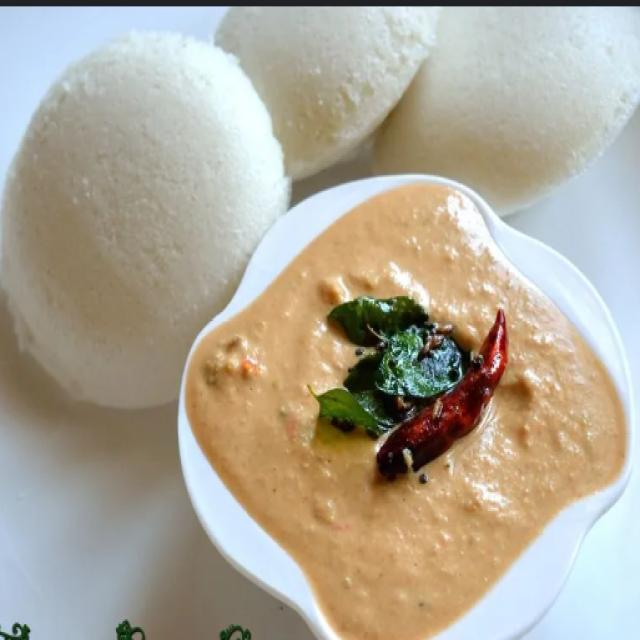peanut chutney: (296, 198, 595, 592)
